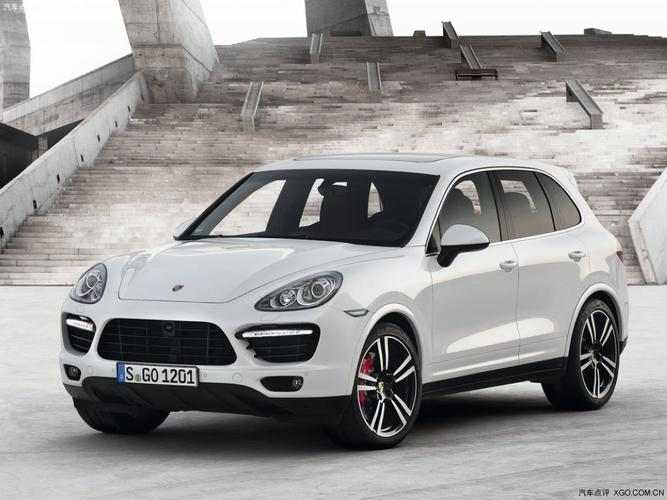汽车: (46, 149, 641, 455)
